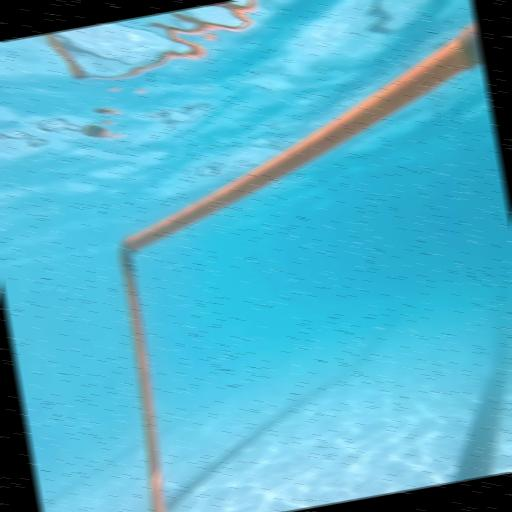gate: (74, 19, 512, 512)
